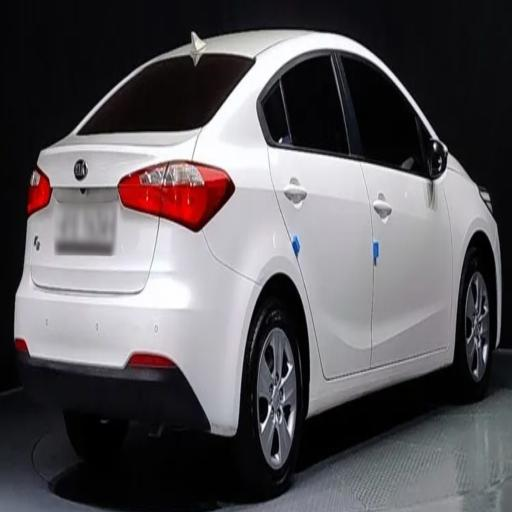normal: (14, 18, 508, 496)
